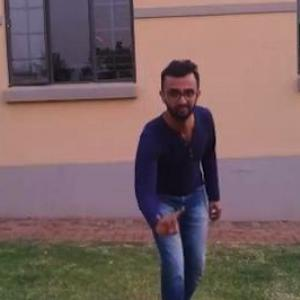takeoff-hand: (149, 196, 188, 245)
